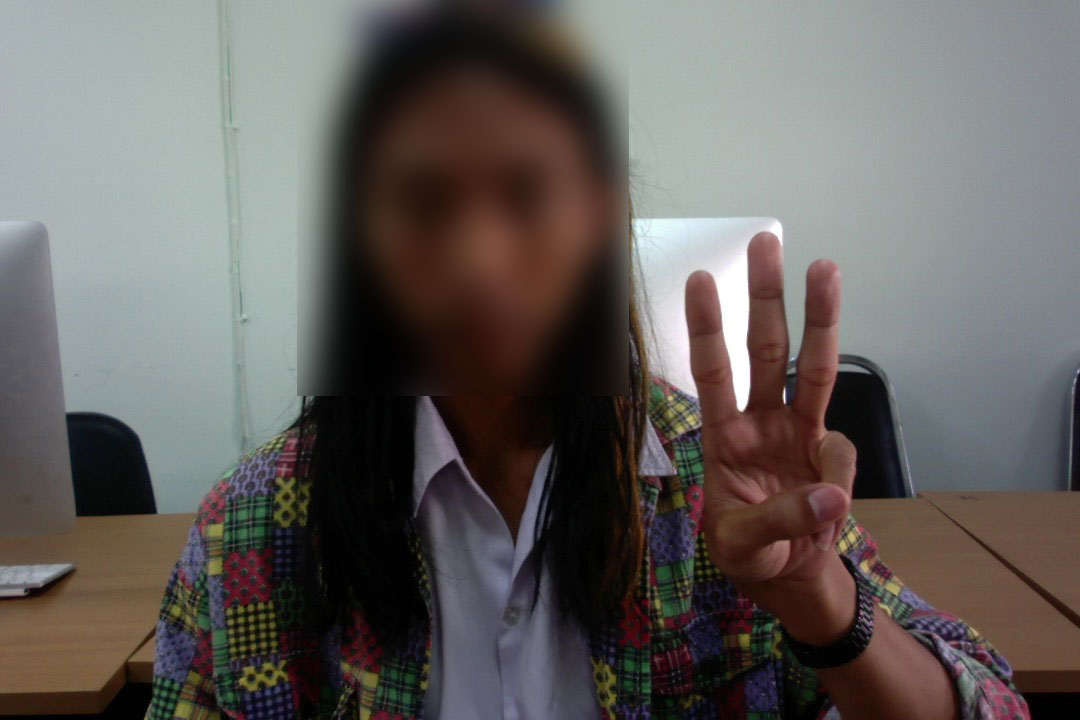wor: (661, 210, 882, 598)
